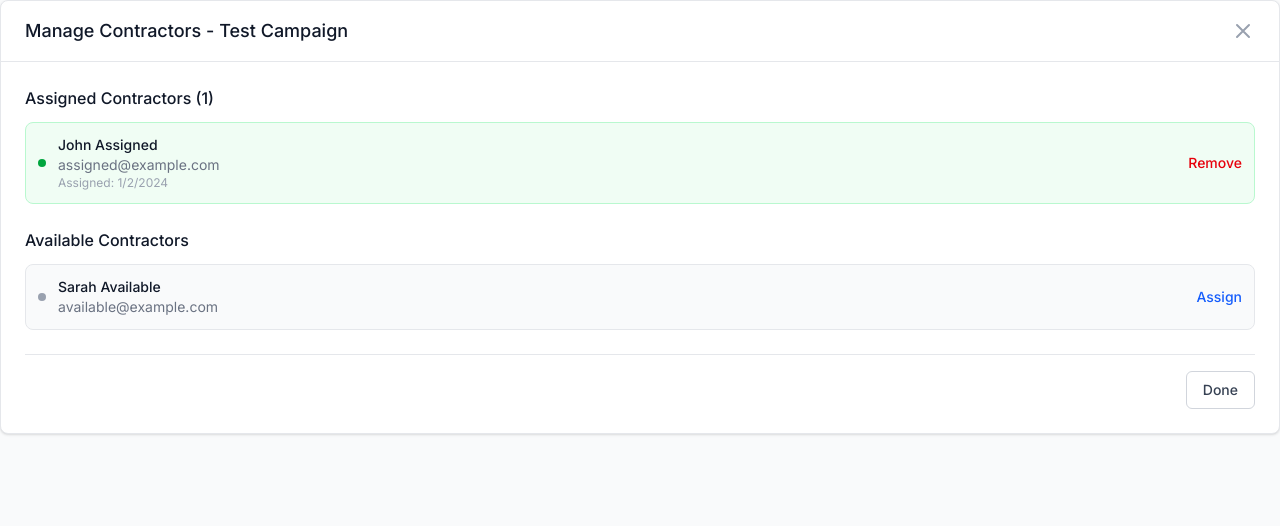
Test: ContractorAssignment › Error Handling › displays error message when contractor assignment fails
This screenshot has width=1280, height=526.
Check: the text "Sarah Available" is shown, box [58,278,161,295]
What coordinates should you click on to do the following:
click the button "Assign"
I would click on:
 (1219, 297)
Its box is [1196,287,1242,307].
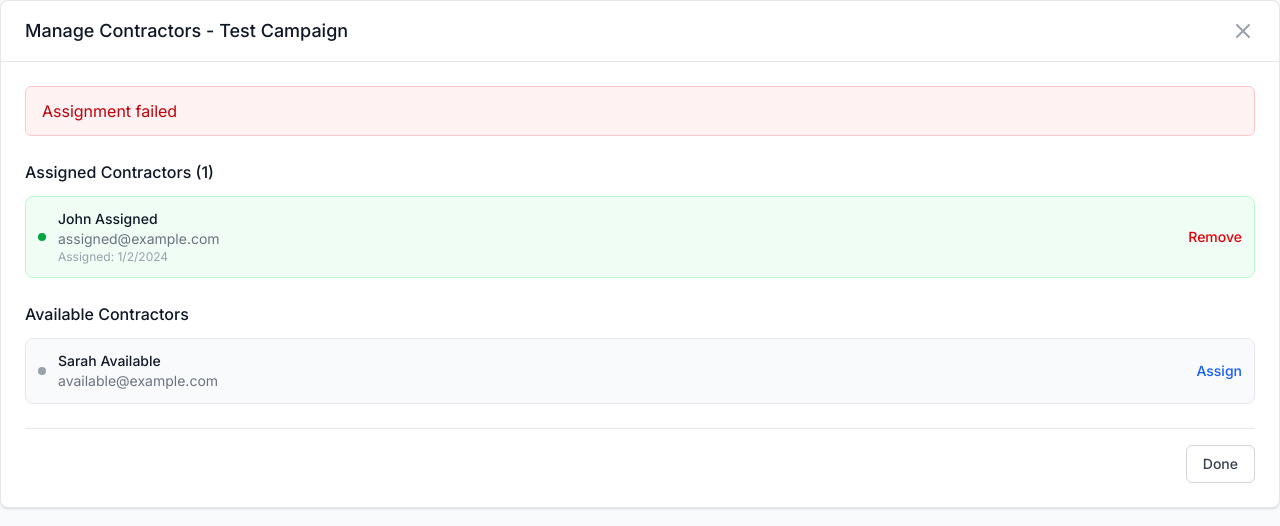
Check: the text "Assignment failed" is shown, box [25,86,1255,136]
